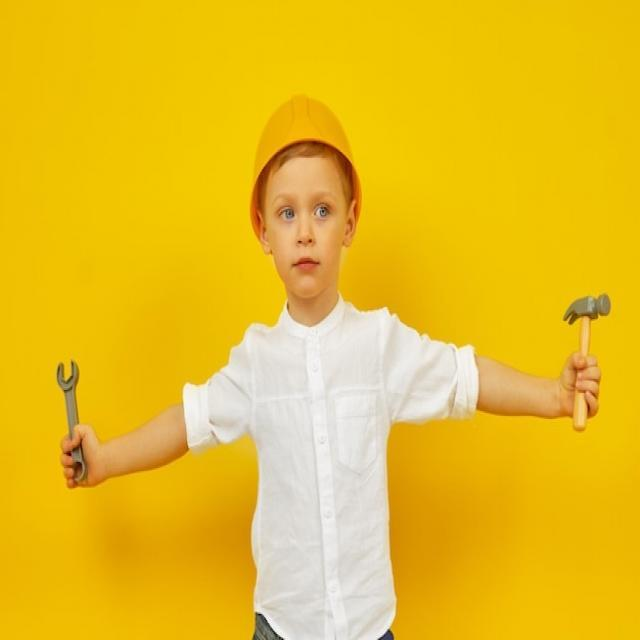hammer: (562, 286, 614, 444)
